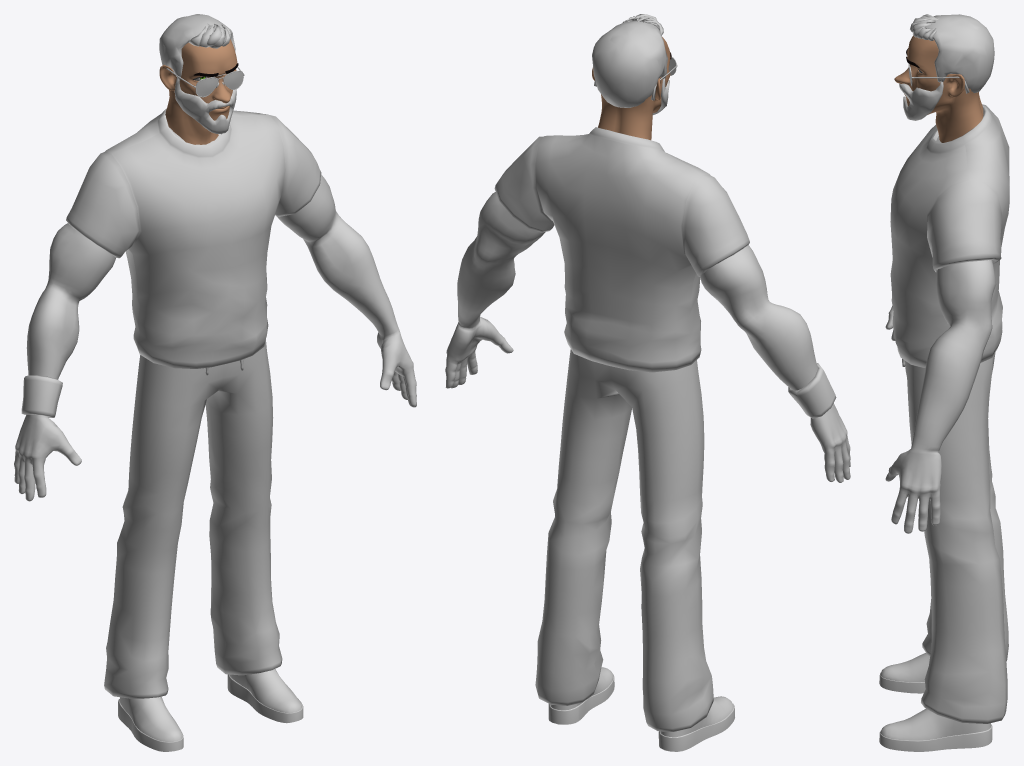
Rendered from M Character 19.fbx.
3 renders of one model, left to right at view 1: azimuth 30°, elevation 25°; view 2: azimuth 150°, elevation 25°; view 3: azimuth 270°, elevation 25°, orthographic.
Parts seen in each view (by area): view 1: Wolf3D_Outfit_Top.014, Wolf3D_Outfit_Bottom.016, big body, m_head, Wolf3D_Outfit_Footwear.015, Wolf3D_Hair.012, Wolf3D_Glasses.008; view 2: Wolf3D_Outfit_Bottom.016, Wolf3D_Outfit_Top.014, big body, Wolf3D_Hair.012, Wolf3D_Outfit_Footwear.015, m_head; view 3: Wolf3D_Outfit_Bottom.016, Wolf3D_Outfit_Top.014, big body, m_head, Wolf3D_Outfit_Footwear.015, Wolf3D_Hair.012.
Boxes of the visible parts, bbox=[...] form: Wolf3D_Outfit_Top.014: bbox=[21, 108, 321, 417]; Wolf3D_Outfit_Bottom.016: bbox=[104, 339, 282, 698]; big body: bbox=[14, 174, 416, 501]; m_head: bbox=[159, 39, 238, 144]; Wolf3D_Outfit_Footwear.015: bbox=[118, 669, 303, 751]; Wolf3D_Hair.012: bbox=[159, 14, 235, 79]; Wolf3D_Glasses.008: bbox=[166, 66, 244, 97]; Wolf3D_Outfit_Bottom.016: bbox=[535, 349, 713, 731]; Wolf3D_Outfit_Top.014: bbox=[494, 127, 836, 418]; big body: bbox=[445, 192, 850, 482]; Wolf3D_Hair.012: bbox=[592, 14, 667, 107]; Wolf3D_Outfit_Footwear.015: bbox=[548, 667, 734, 751]; m_head: bbox=[592, 37, 671, 140]; Wolf3D_Outfit_Bottom.016: bbox=[902, 352, 1008, 723]; Wolf3D_Outfit_Top.014: bbox=[890, 104, 1009, 367]; big body: bbox=[885, 260, 996, 533]; m_head: bbox=[894, 35, 983, 142]; Wolf3D_Outfit_Footwear.015: bbox=[879, 653, 992, 751]; Wolf3D_Hair.012: bbox=[910, 14, 994, 93].
Size of the model in its own units: 117 by 198 by 33.56.
